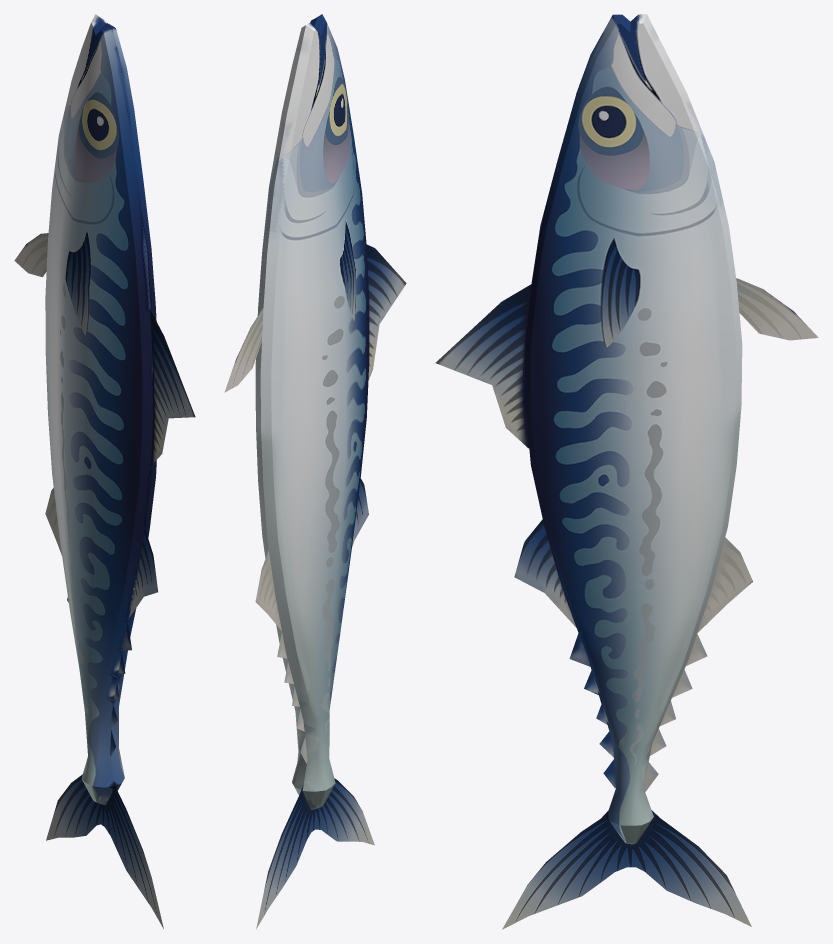
File: SM_Fish.fbx
3 views of the same model, side by side, from view 1: azimuth 30°, elevation 25°; view 2: azimuth 150°, elevation 25°; view 3: azimuth 270°, elevation 25° (orthographic). The views are drawn at different scales.
Parts seen in each view (by area): view 1: SM_Fish; view 2: SM_Fish; view 3: SM_Fish.
Part boxes in pixels (x1=…): SM_Fish: x1=14, y1=14, x2=195, y2=928; SM_Fish: x1=224, y1=14, x2=406, y2=929; SM_Fish: x1=435, y1=14, x2=818, y2=929.
Size of the model in its own units: 2.67 by 12.25 by 32.27.
1 material, 1 textured.
